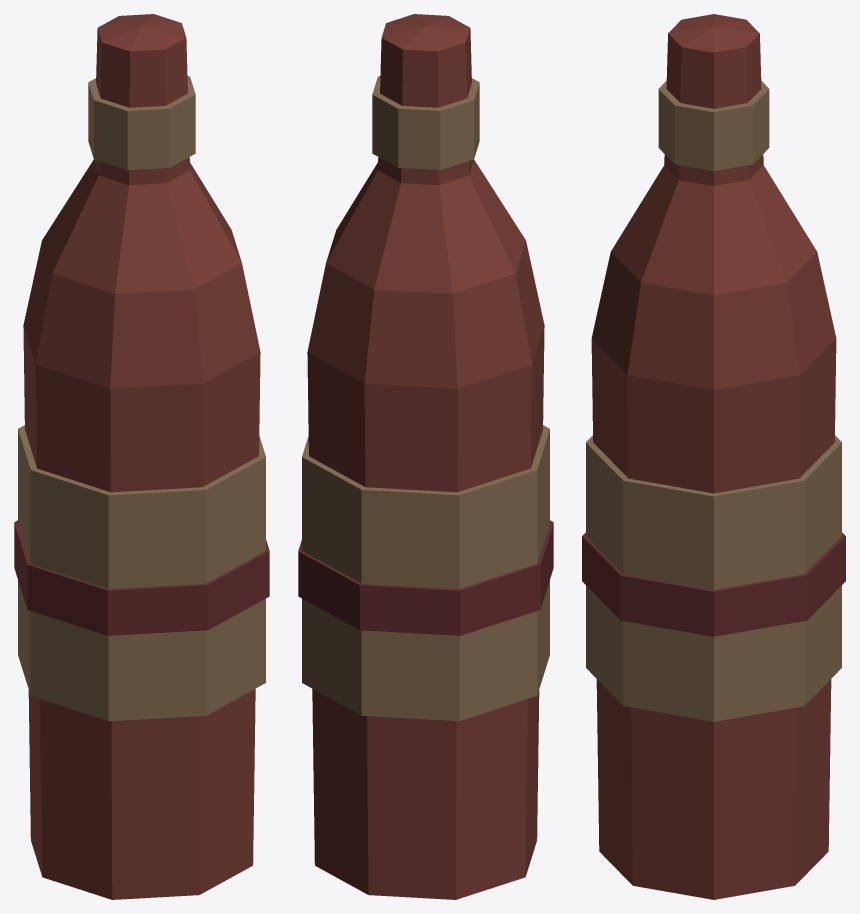
The model's file is bere_goala.glb.
3 views of the same model, side by side, from view 1: azimuth 30°, elevation 25°; view 2: azimuth 150°, elevation 25°; view 3: azimuth 270°, elevation 25° (orthographic).
Parts seen in each view (by area): view 1: Bere; view 2: Bere; view 3: Bere.
Boxes of the visible parts, x1,y1,x2,y2 form: Bere: (14,14,269,899); Bere: (298,14,553,899); Bere: (582,14,845,899).
Bounding box in the file's own units: 0.069 × 0.24 × 0.069.
